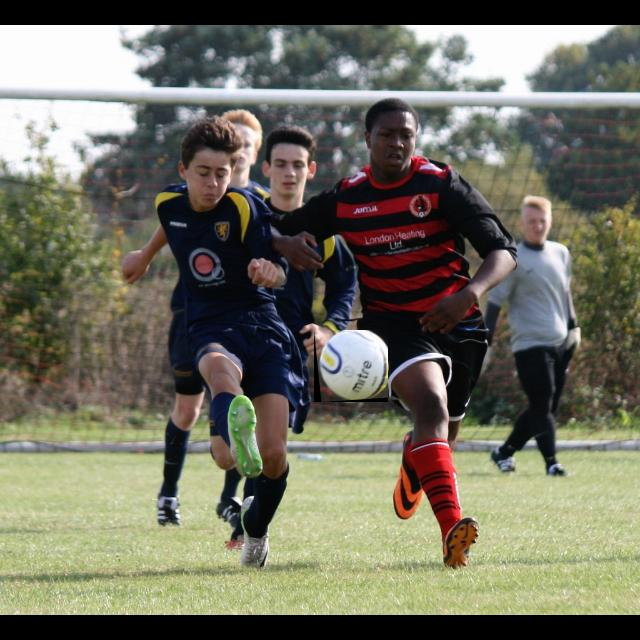Football: (314, 330, 388, 402)
